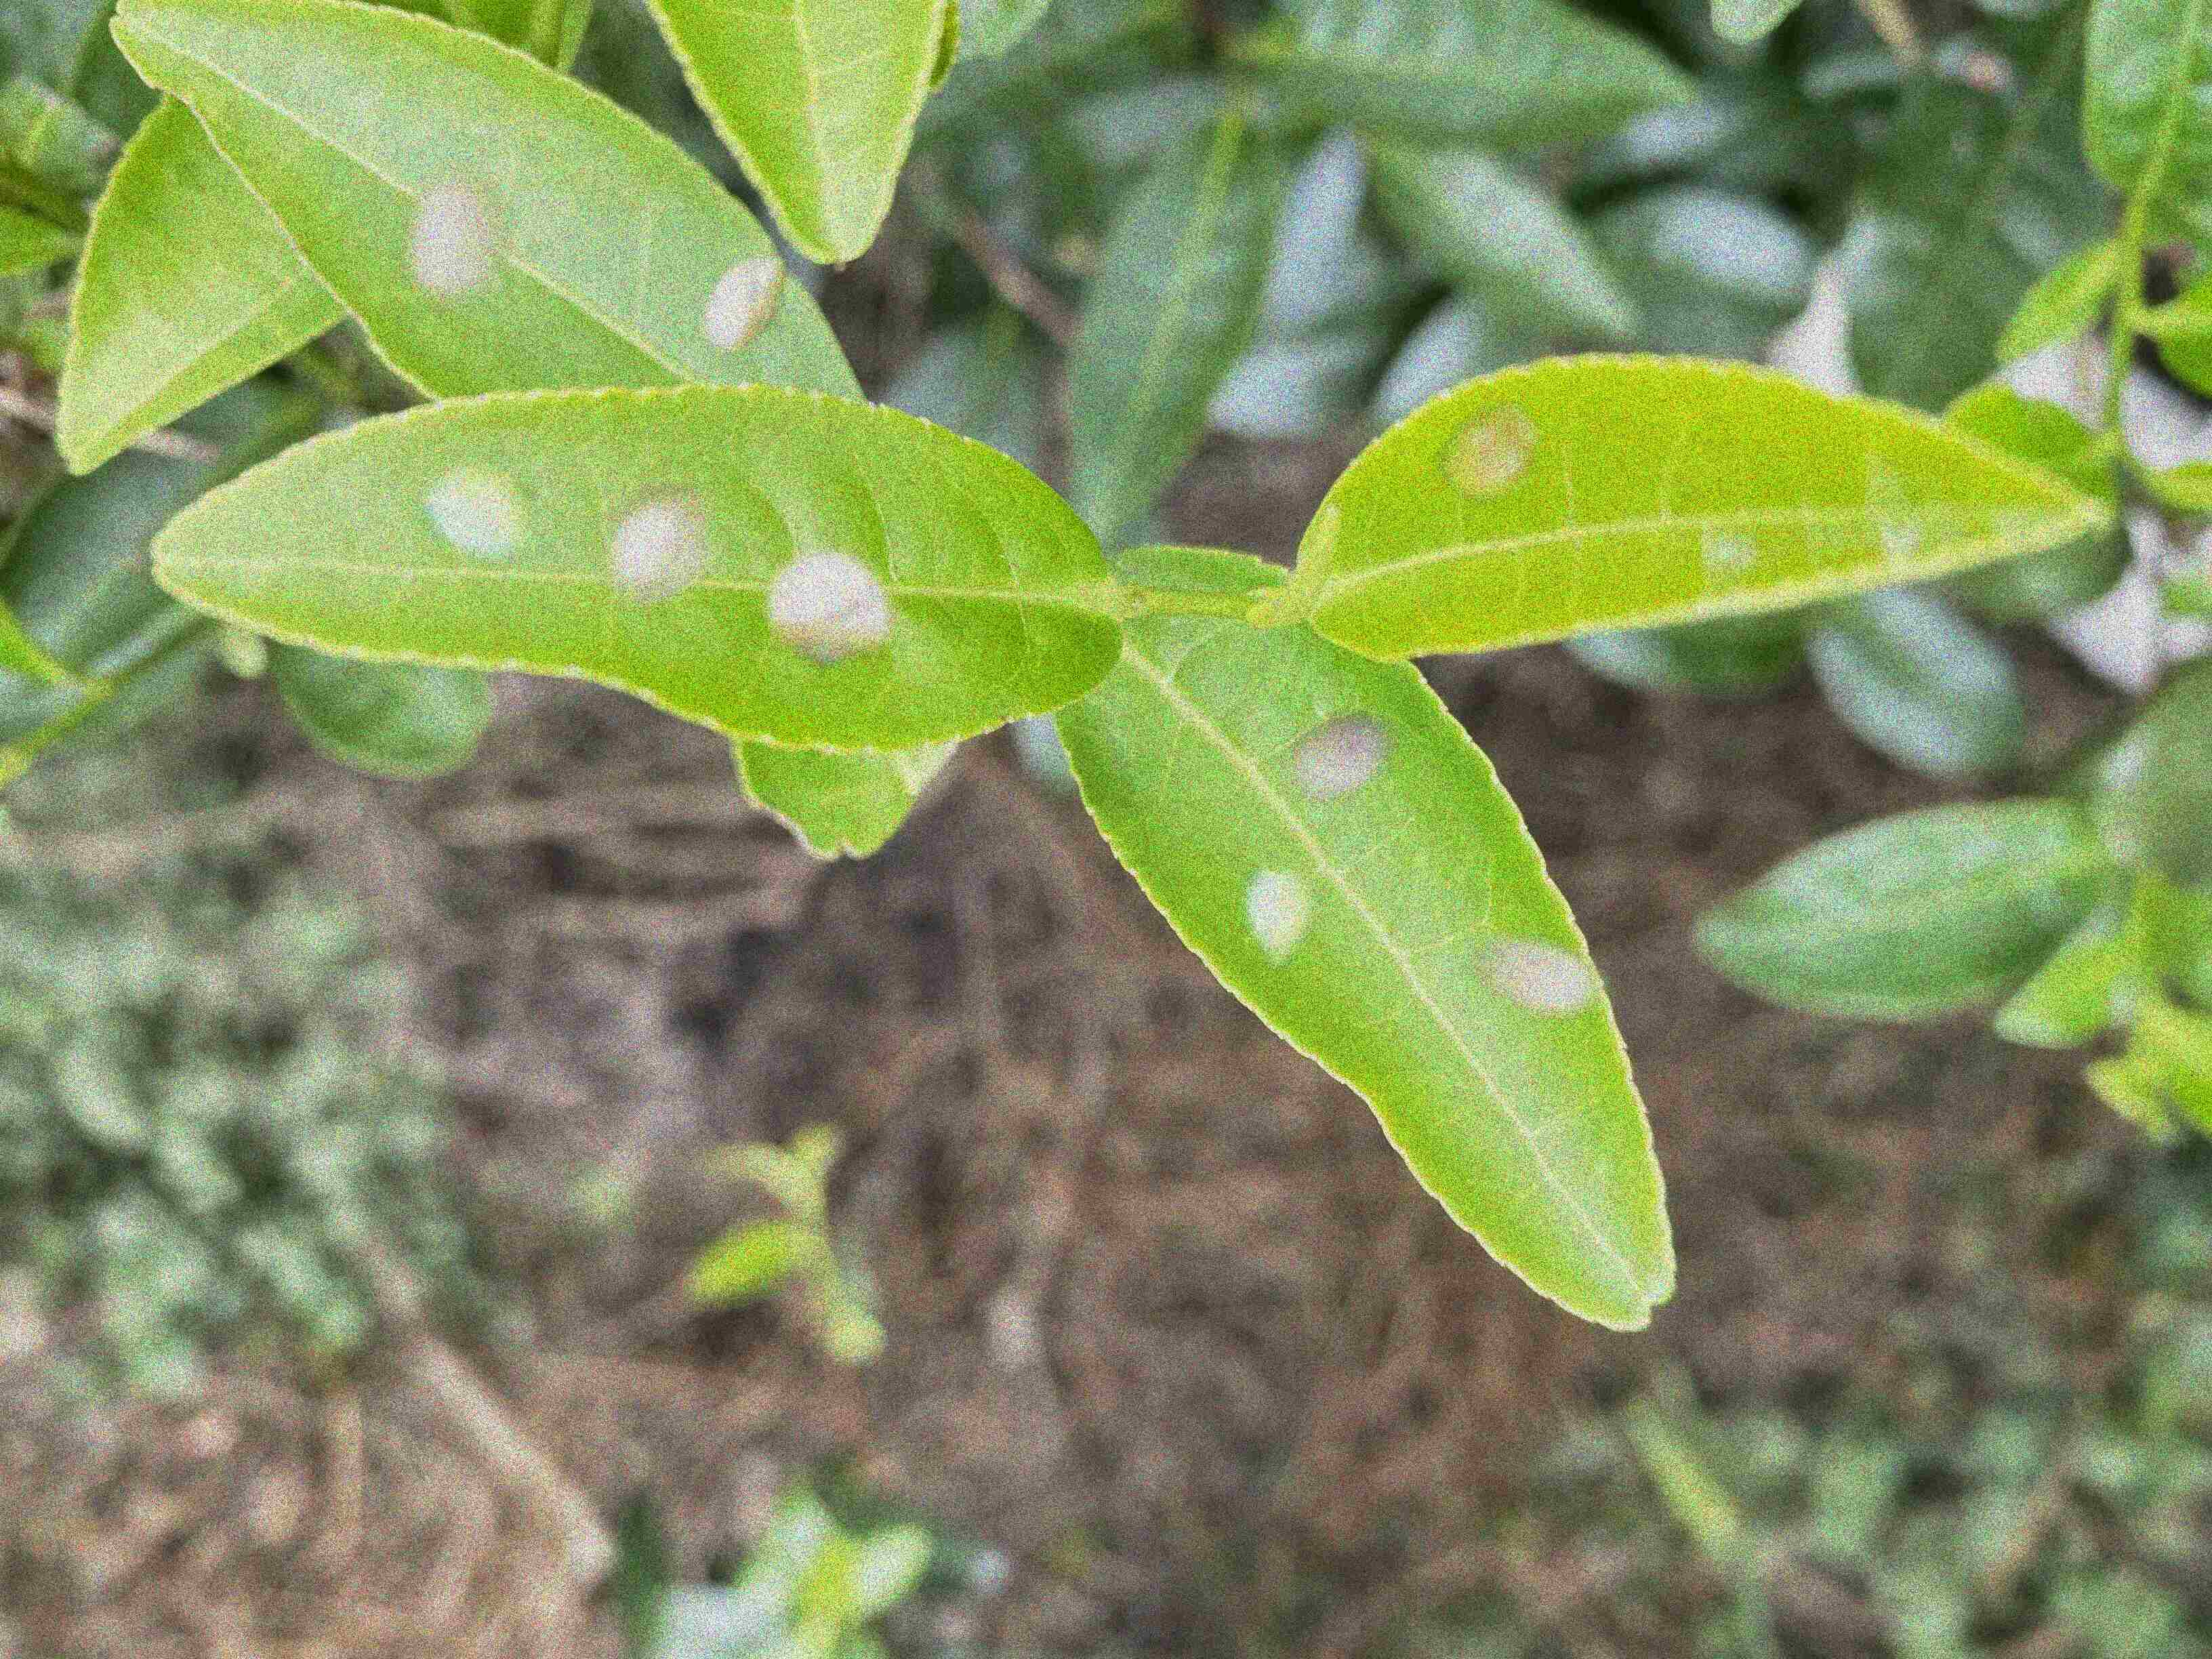chabing_high: (1055, 551, 1679, 1331), (152, 382, 1120, 753), (110, 3, 862, 401)
chabing_low: (1296, 352, 2102, 662)
